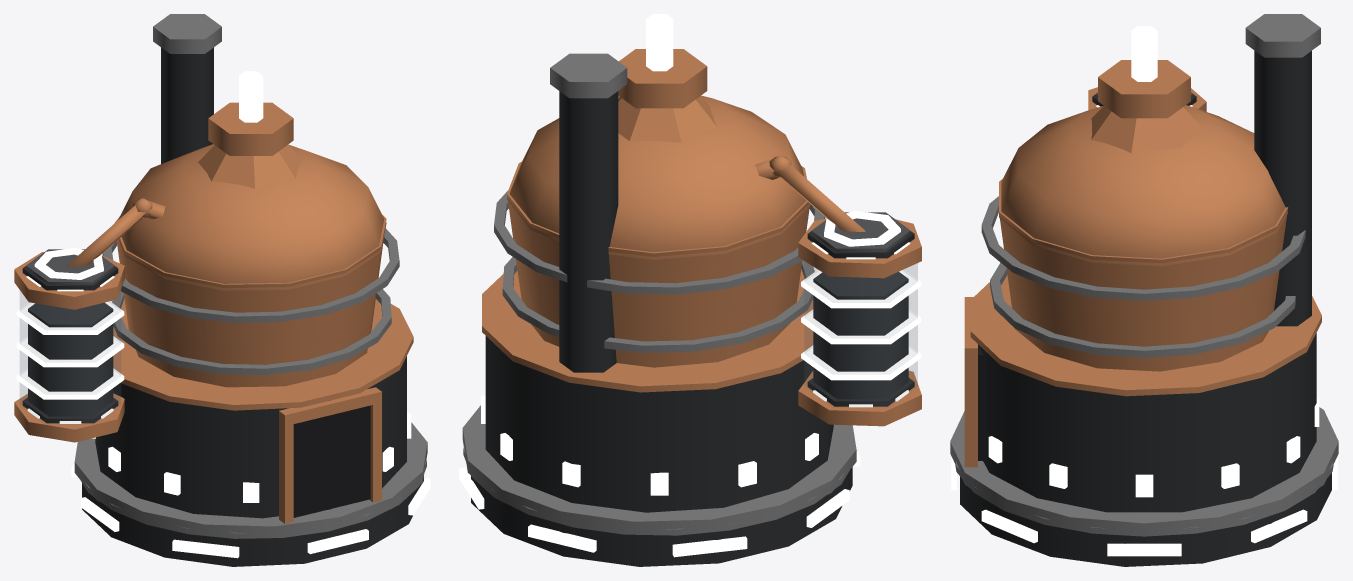
The model's file is Skin_Distillery_T1.glb.
The picture shows the model from 3 angles, left to right: view 1: azimuth 30°, elevation 25°; view 2: azimuth 150°, elevation 25°; view 3: azimuth 270°, elevation 25°; orthographic projection. The views are drawn at different scales.
Parts seen in each view (by area): view 1: Skin_Distillery_T1; view 2: Skin_Distillery_T1; view 3: Skin_Distillery_T1.
Boxes of the visible parts, x1,y1,x2,y2 form: Skin_Distillery_T1: (14,14,430,566); Skin_Distillery_T1: (459,14,921,566); Skin_Distillery_T1: (950,14,1338,566).
Size of the model in its own units: 4.35 by 4.57 by 3.5.
